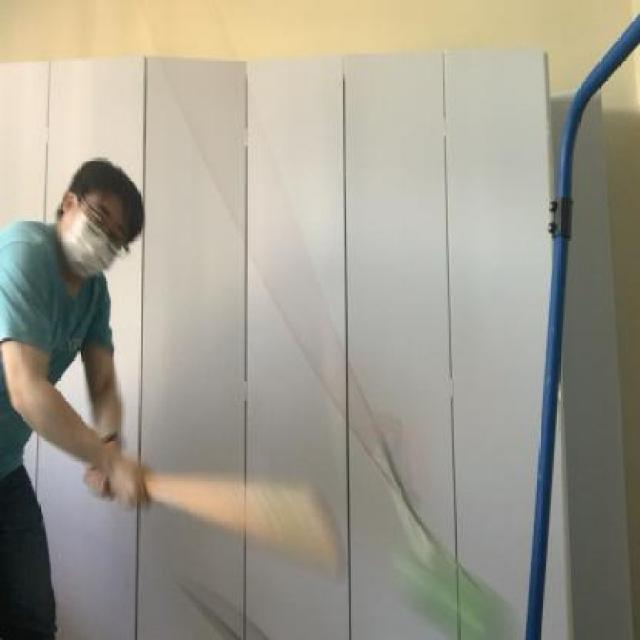baseball: (380, 529, 528, 640)
